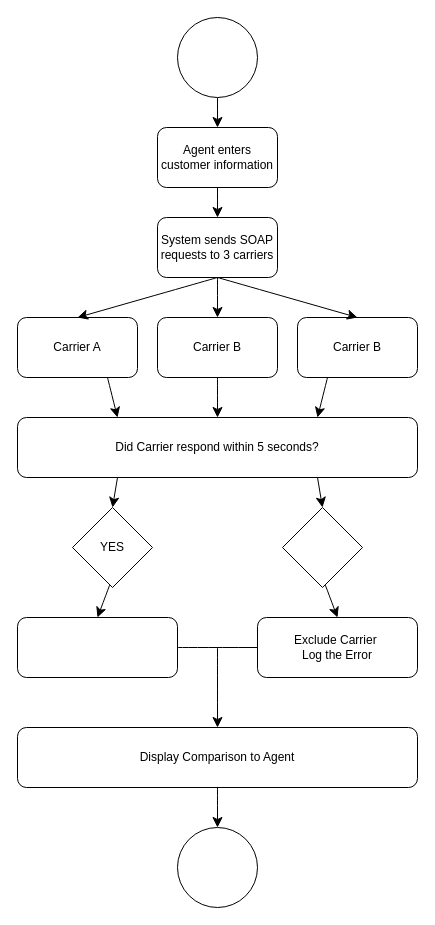
This 435x925 diagram has some shape labels left out. Here are the shapes that lost their labels. From the top down, the centre of each, then its label:
(217,57): Start
(322,547): NO
(97,647): Include Quote in Results
(217,867): END
